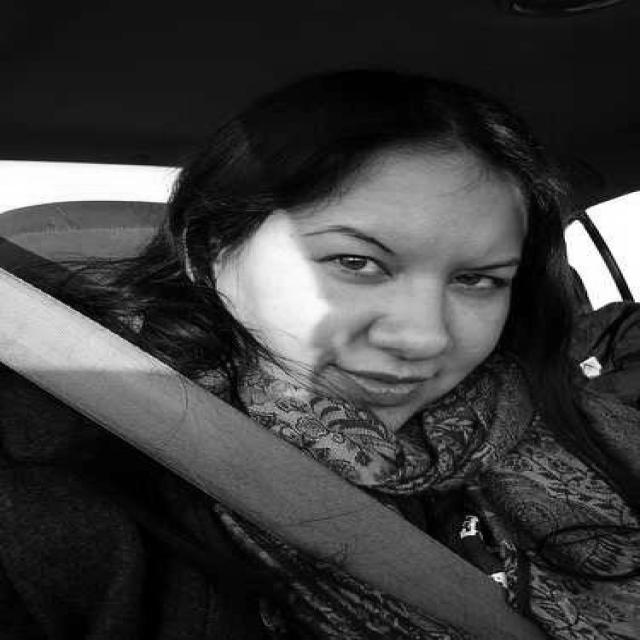Seatbelt: (59, 326, 561, 640)
